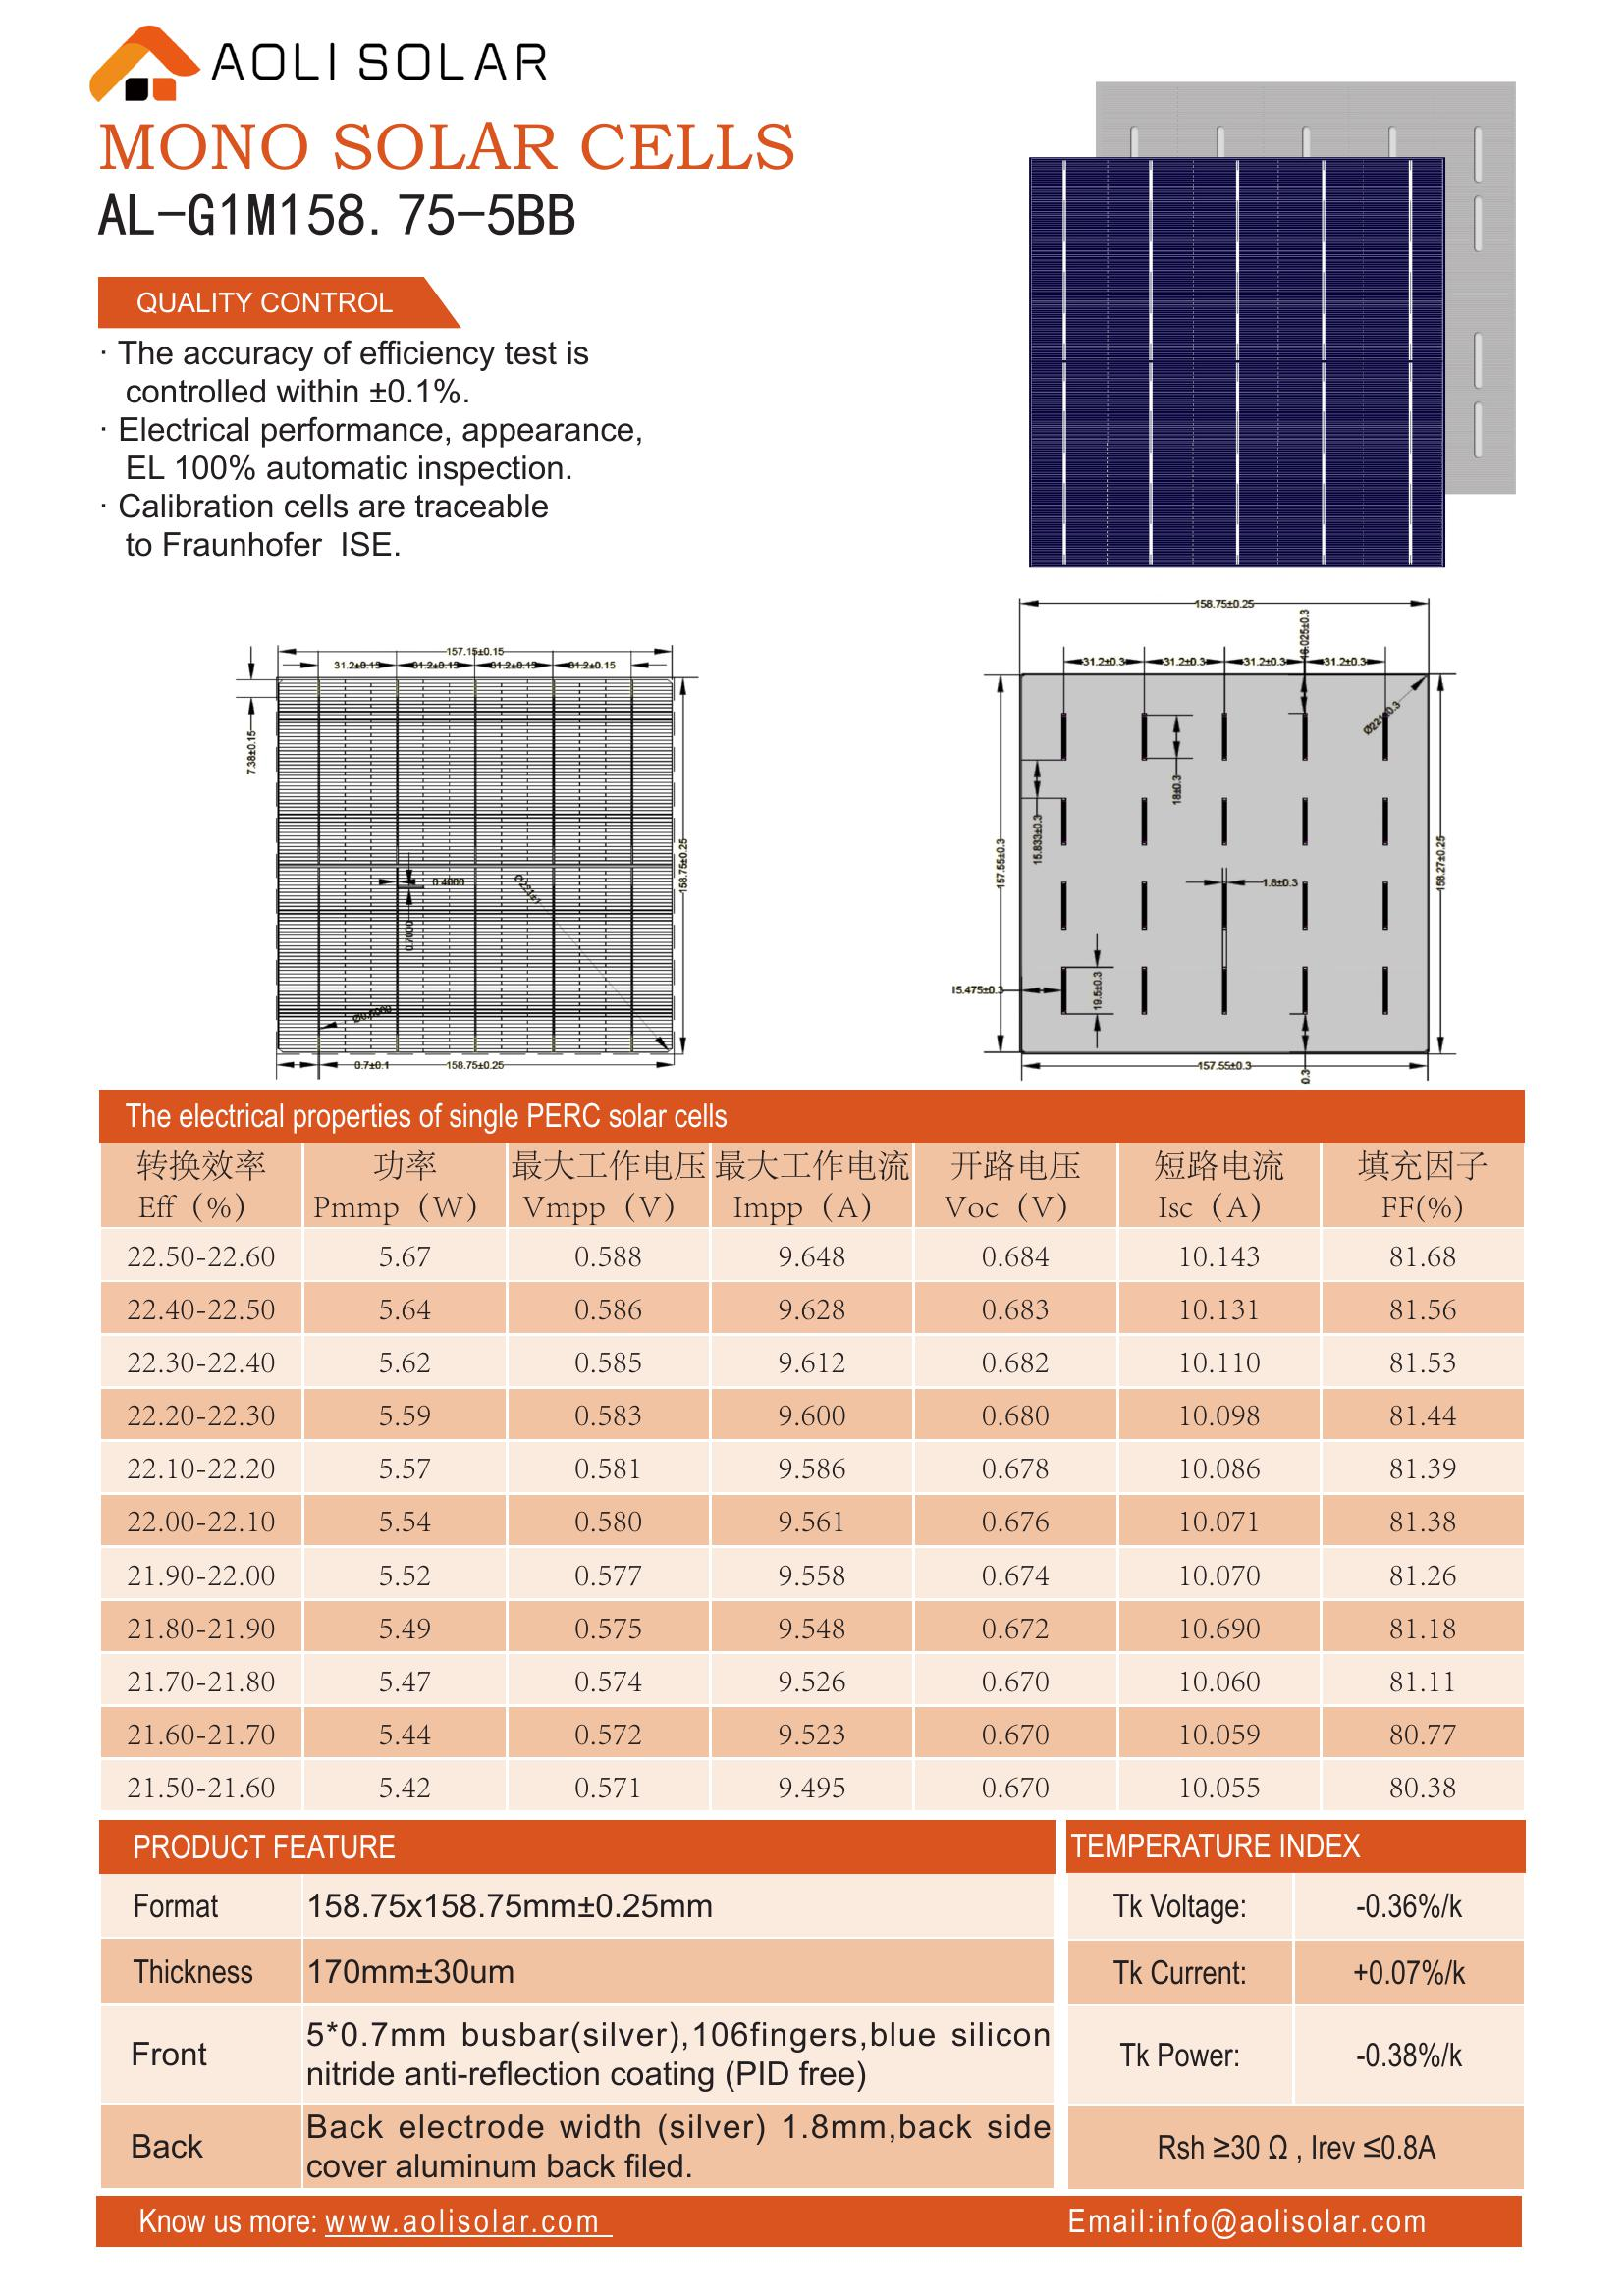table: (70, 1133, 1534, 1816), (88, 1864, 1056, 2194), (1056, 1866, 1534, 2192)
